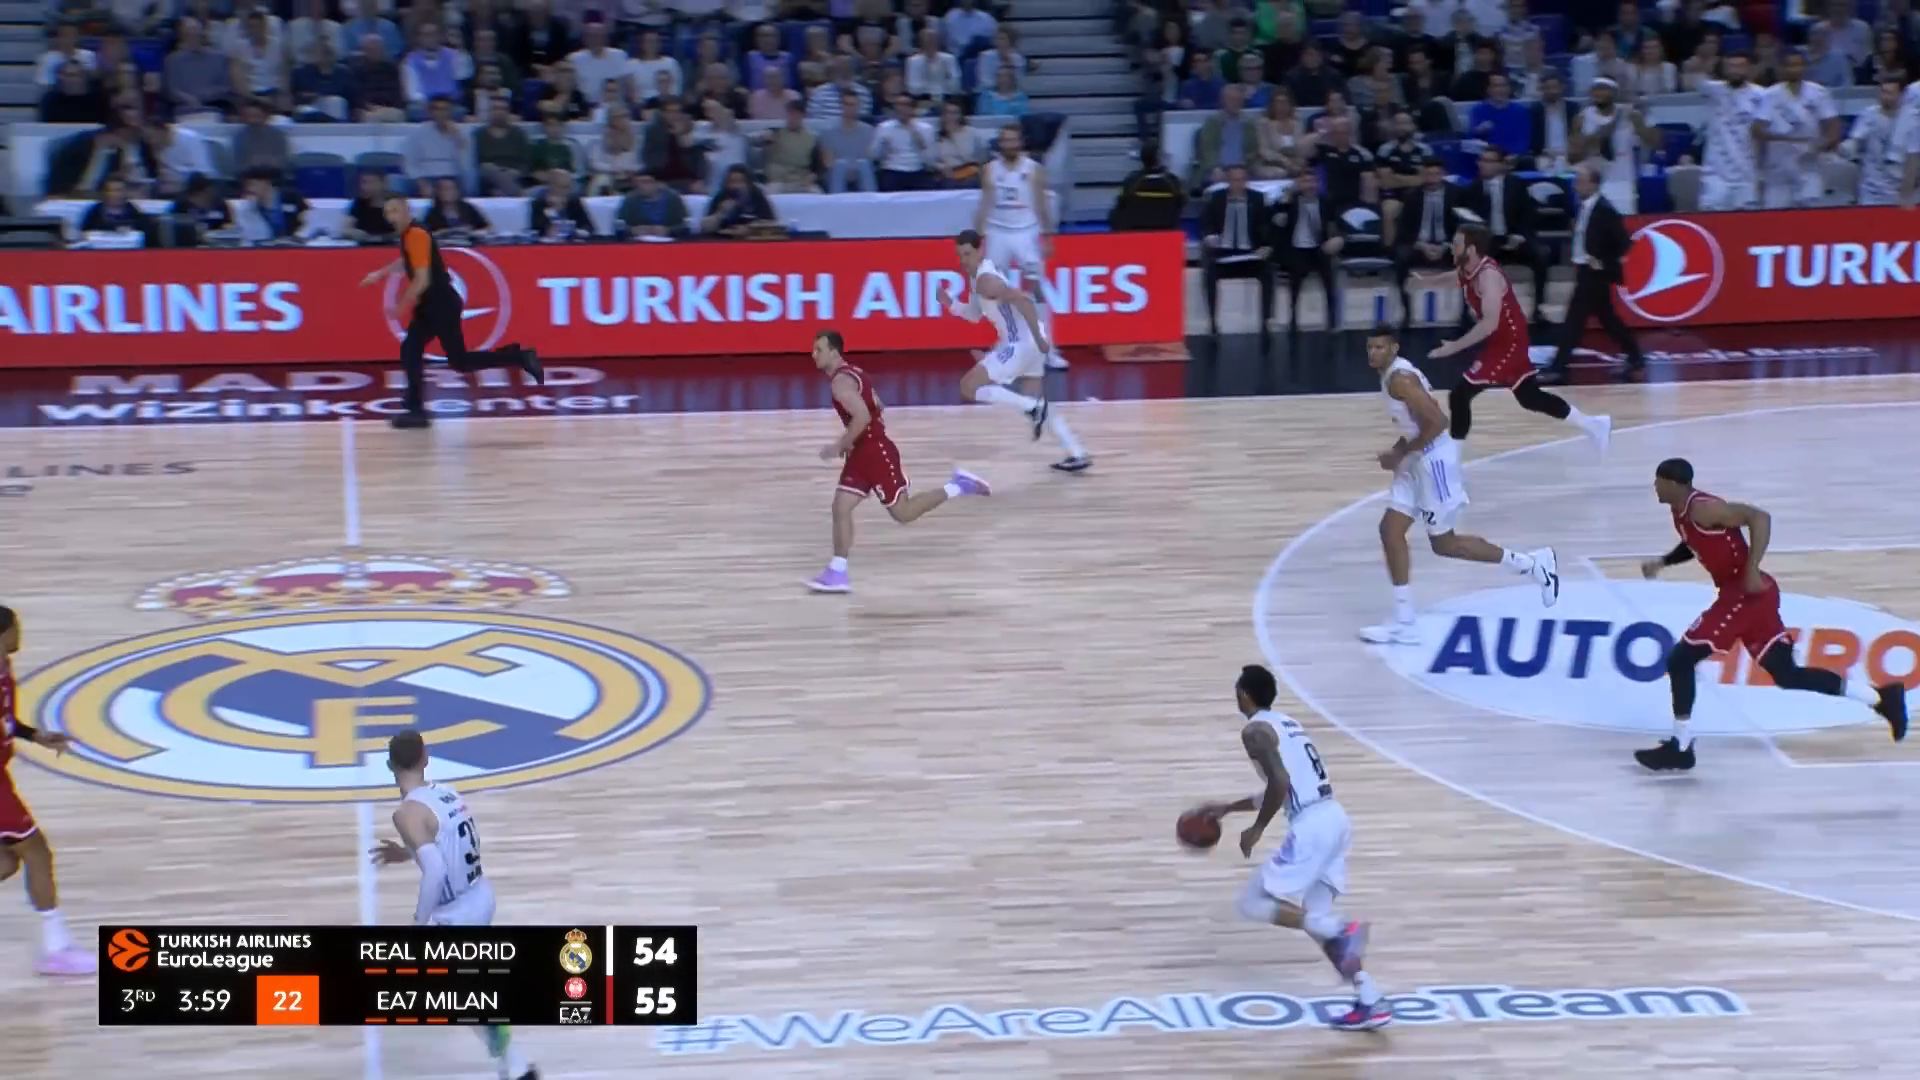ball: (1174, 803, 1224, 855)
